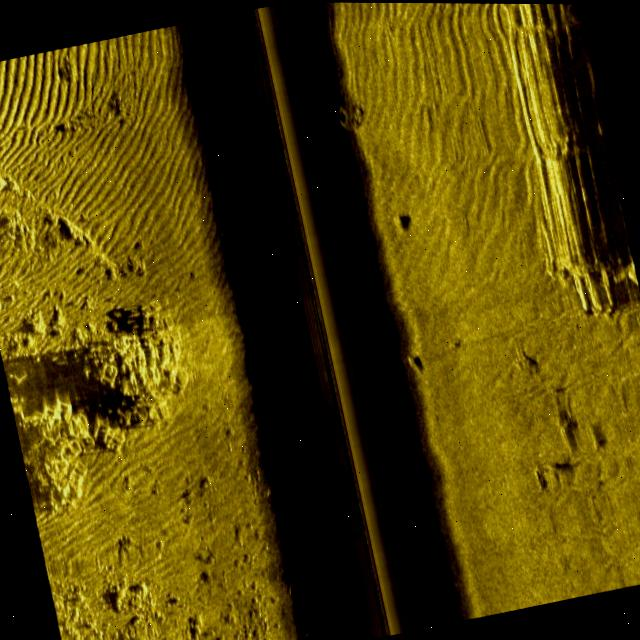artificial reef: (4, 311, 219, 532), (321, 80, 376, 134)
